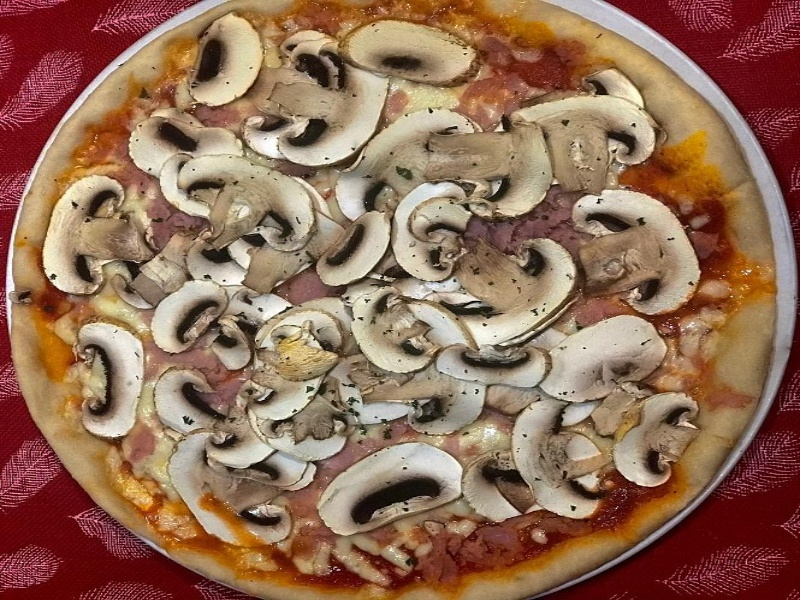champignon: (564, 187, 709, 317), (166, 431, 300, 559), (276, 34, 393, 169), (516, 88, 661, 196), (173, 154, 326, 256), (448, 240, 583, 353), (316, 439, 467, 536), (38, 173, 150, 303), (509, 394, 610, 522), (62, 315, 152, 441), (613, 386, 703, 489), (352, 287, 445, 380), (313, 208, 394, 293), (152, 277, 235, 353)
